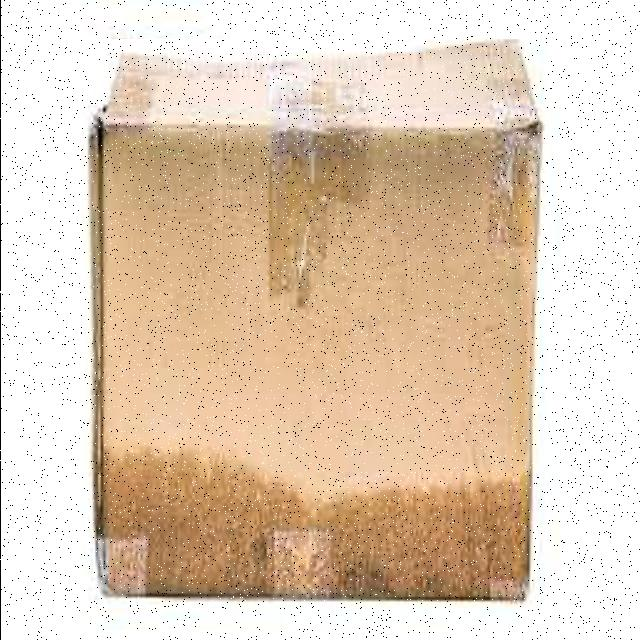defect: (80, 39, 548, 609)
